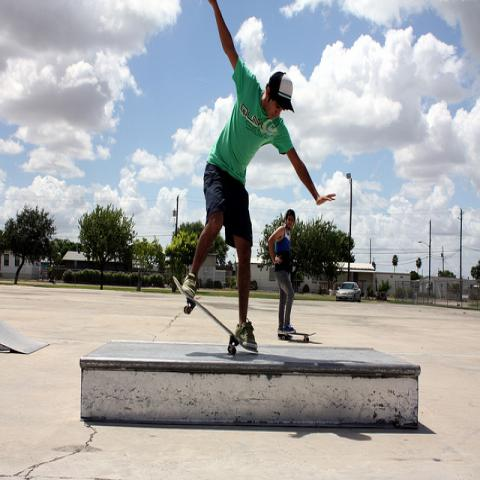car: (336, 281, 361, 302)
